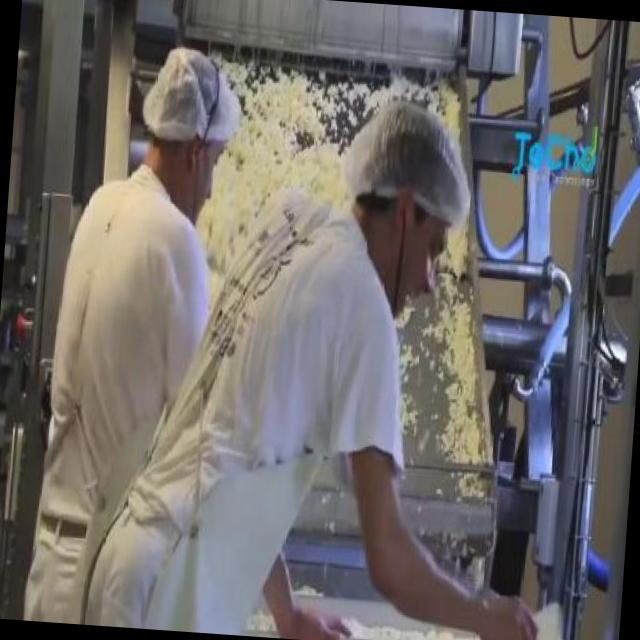hairnet: (336, 99, 474, 228), (140, 44, 242, 146)
